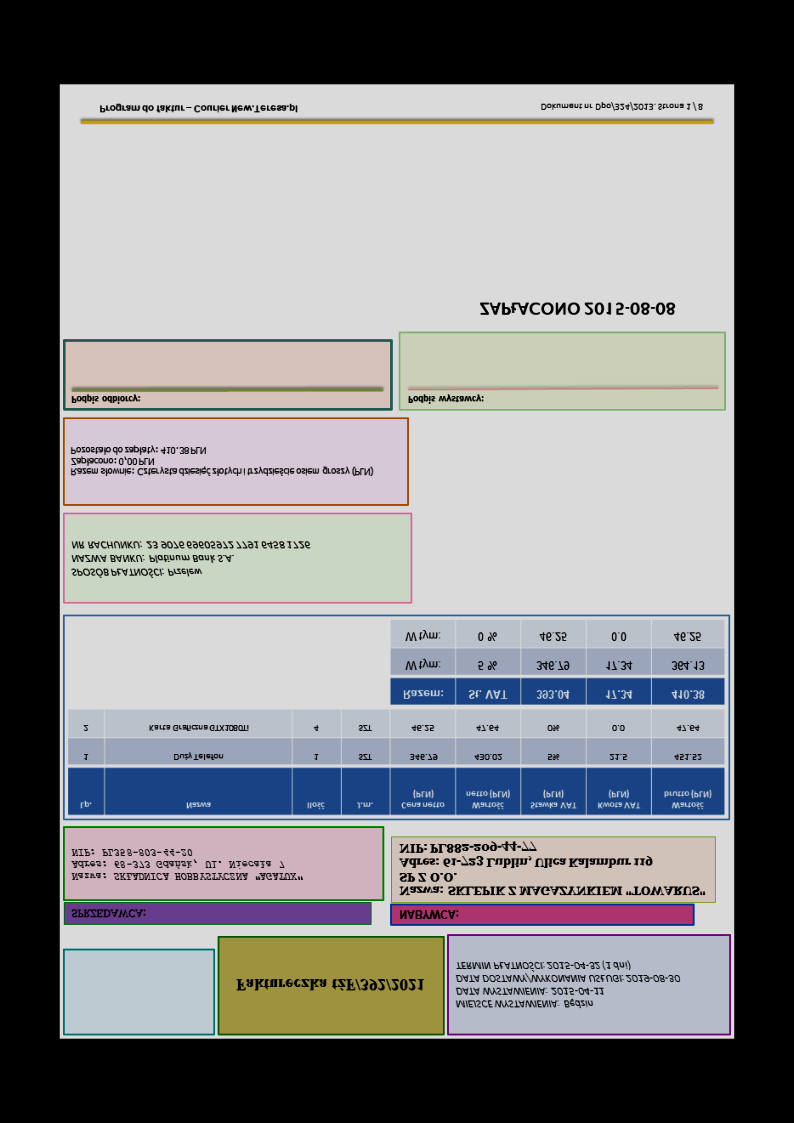Table: (67, 708, 725, 817), (389, 619, 725, 706)
TextBox: (397, 841, 707, 898), (454, 959, 682, 1010), (70, 445, 375, 479), (69, 539, 312, 580), (70, 847, 304, 884), (235, 977, 425, 994), (479, 301, 676, 317), (97, 101, 299, 116), (539, 100, 705, 114), (69, 906, 149, 921), (406, 392, 485, 406), (69, 393, 142, 406), (398, 908, 460, 922)
